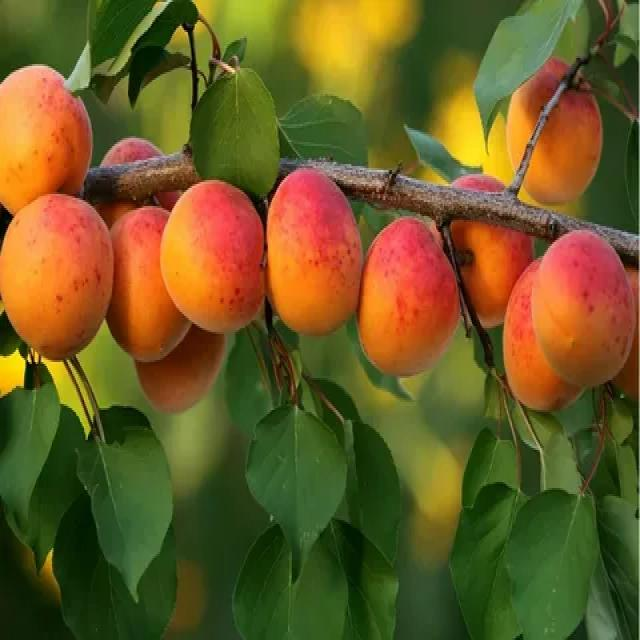Yaprak: (161, 180, 263, 332), (247, 404, 345, 548)
